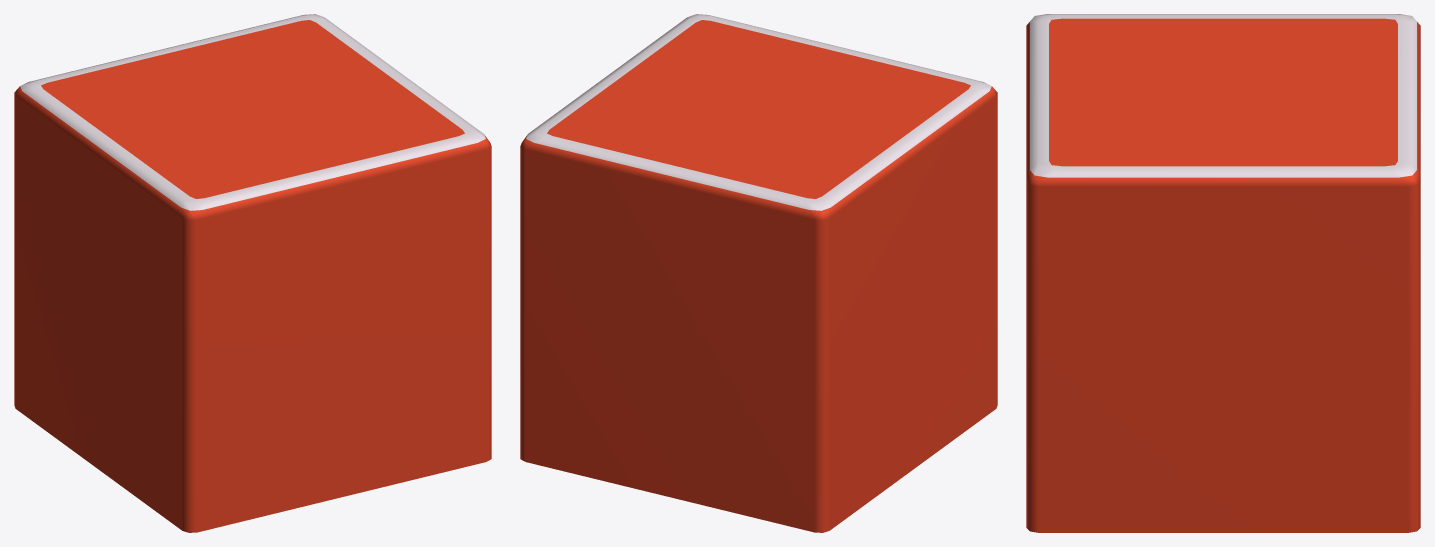
The model's file is Center.fbx.
3 renders of one model, left to right at view 1: azimuth 30°, elevation 25°; view 2: azimuth 150°, elevation 25°; view 3: azimuth 270°, elevation 25°, orthographic. The views are drawn at different scales.
Visible parts, largest first — view 1: Center; view 2: Center; view 3: Center.
Boxes of the visible parts, bbox=[...] form: Center: bbox=[14, 14, 491, 532]; Center: bbox=[520, 14, 997, 532]; Center: bbox=[1026, 14, 1420, 532].
Bounding box in the file's own units: 42.89 × 42.89 × 42.89.
